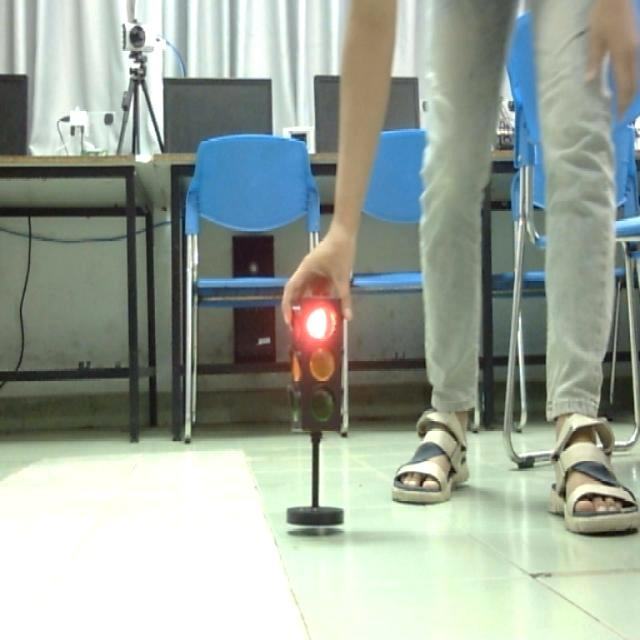Red: (283, 298, 352, 438)
